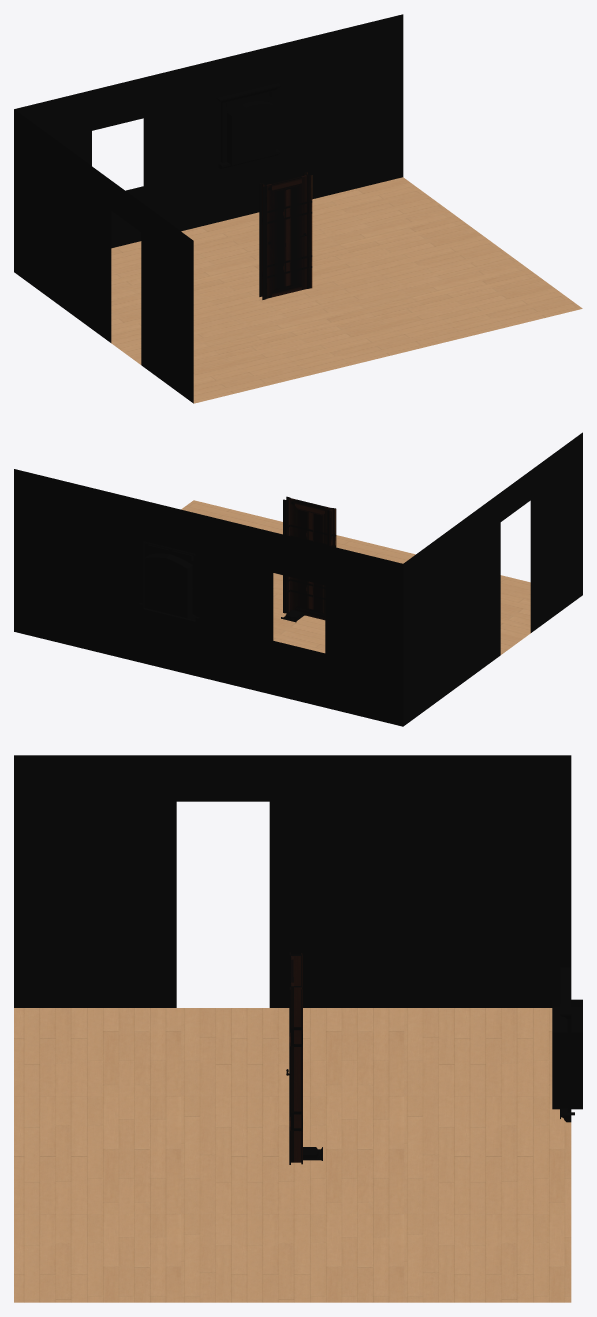
3 views of the same model, one above another, from view 1: azimuth 30°, elevation 25°; view 2: azimuth 150°, elevation 25°; view 3: azimuth 270°, elevation 25° (orthographic). The views are drawn at different scales.
Visible parts, largest first — view 1: Plane, Plane.006, Plane.002, Plane.003, Plane.005, Plane.007, door1, Plane.004, Plane.001, Cutter.001, Window.001, Plane.008; view 2: Plane.002, Plane.006, Plane.001, Plane.003, Plane.005, Plane.007, Plane, Plane.004, door1, Cutter.001, Window.001, Plane.008; view 3: Plane, Plane.006, Plane.007, Plane.008, Cutter.001, door1, Window.001.
Boxes of the visible parts, x1,y1,x2,y2 form: Plane: (111,177,582,403); Plane.006: (14,109,111,342); Plane.002: (111,123,403,248); Plane.003: (92,14,403,130); Plane.005: (275,55,403,152); Plane.007: (141,202,193,403); door1: (259,172,312,299); Plane.004: (143,100,220,185); Plane.001: (14,90,91,165); Cutter.001: (227,101,275,165); Window.001: (216,82,281,168); Plane.008: (111,181,141,231); Plane.002: (14,577,325,707); Plane.006: (403,493,500,726); Plane.001: (325,545,403,726); Plane.003: (14,469,325,585); Plane.005: (14,509,143,608); Plane.007: (530,432,582,632); Plane: (181,500,530,654); Plane.004: (195,554,273,640); door1: (283,496,336,620); Cutter.001: (144,553,192,618); Window.001: (139,541,198,621); Plane.008: (500,471,530,521); Plane: (14,1008,571,1302); Plane.006: (269,755,571,1007); Plane.007: (14,755,176,1007); Plane.008: (176,755,269,801); Cutter.001: (552,999,582,1109); door1: (286,952,302,1164); Window.001: (560,967,574,1122).
Size of the model in its own units: 30 by 12.4 by 24.5.
5 materials, 5 textured.
